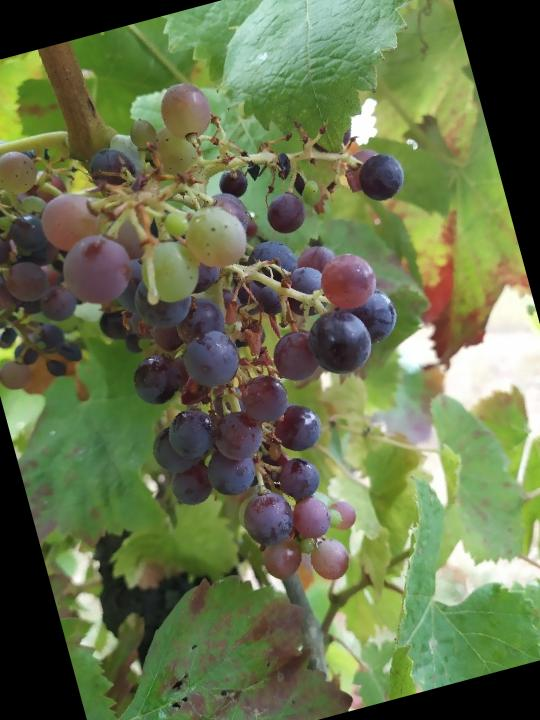grape: (0, 20, 505, 654)
